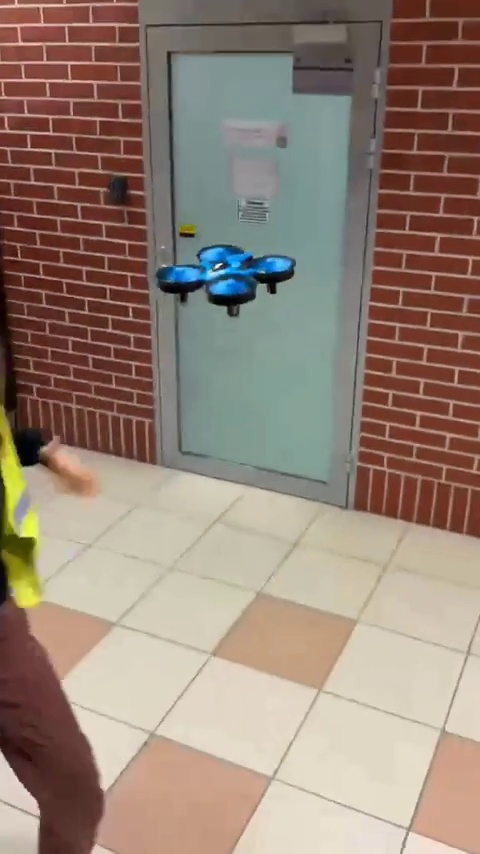drone: (155, 244, 298, 316)
